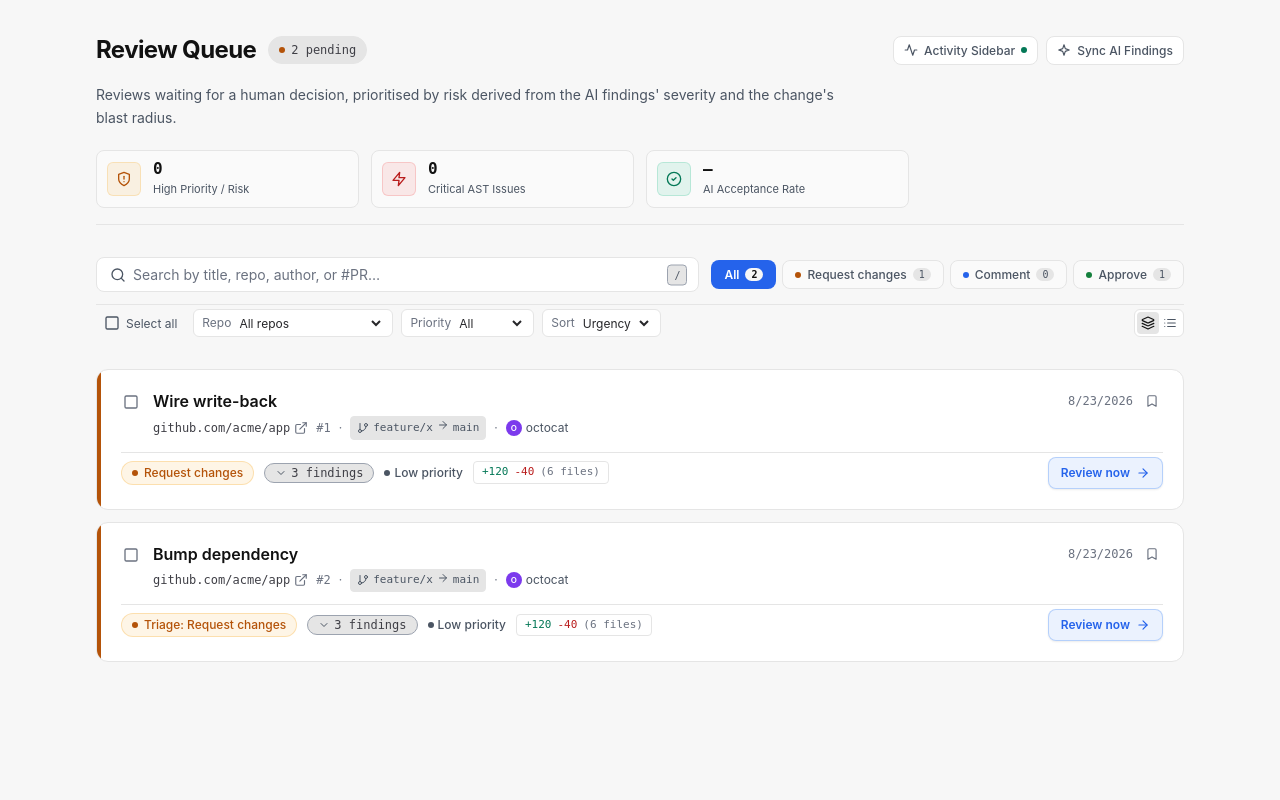
Test: QueuePage › filters by verdict and narrows by search text
The width and height of the screenshot is (1280, 800).
Expected: the link "Wire write-back" is shown, [153, 391, 277, 411]
# Verdict filter keeps only APPROVE.
Click the button "Approve 1" at coordinates (1129, 274), box [1074, 260, 1184, 289]
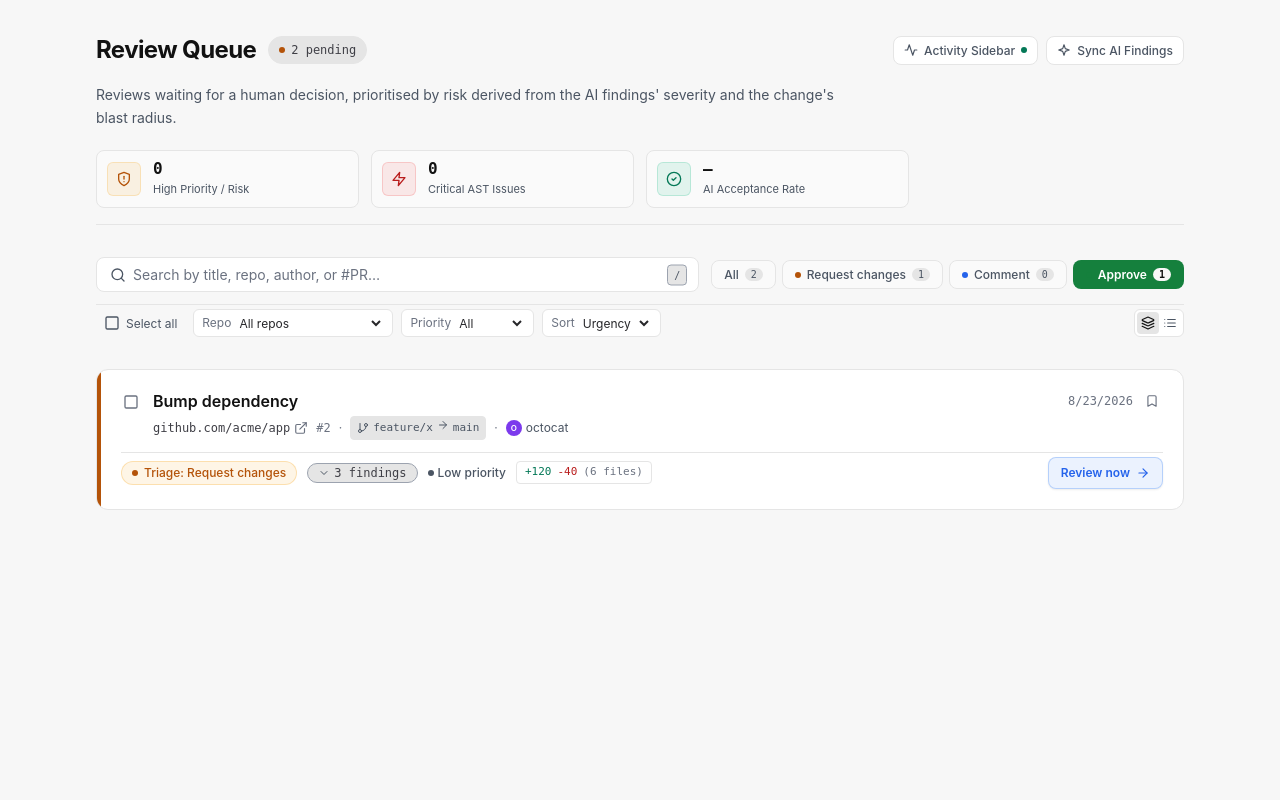
Expected: the link "Bump dependency" is shown, [153, 391, 298, 411]
Now the link "Wire write-back" is gone
# Back to All, then search narrows by title.
Click the button "All 2" at coordinates (744, 274), box [711, 260, 776, 289]
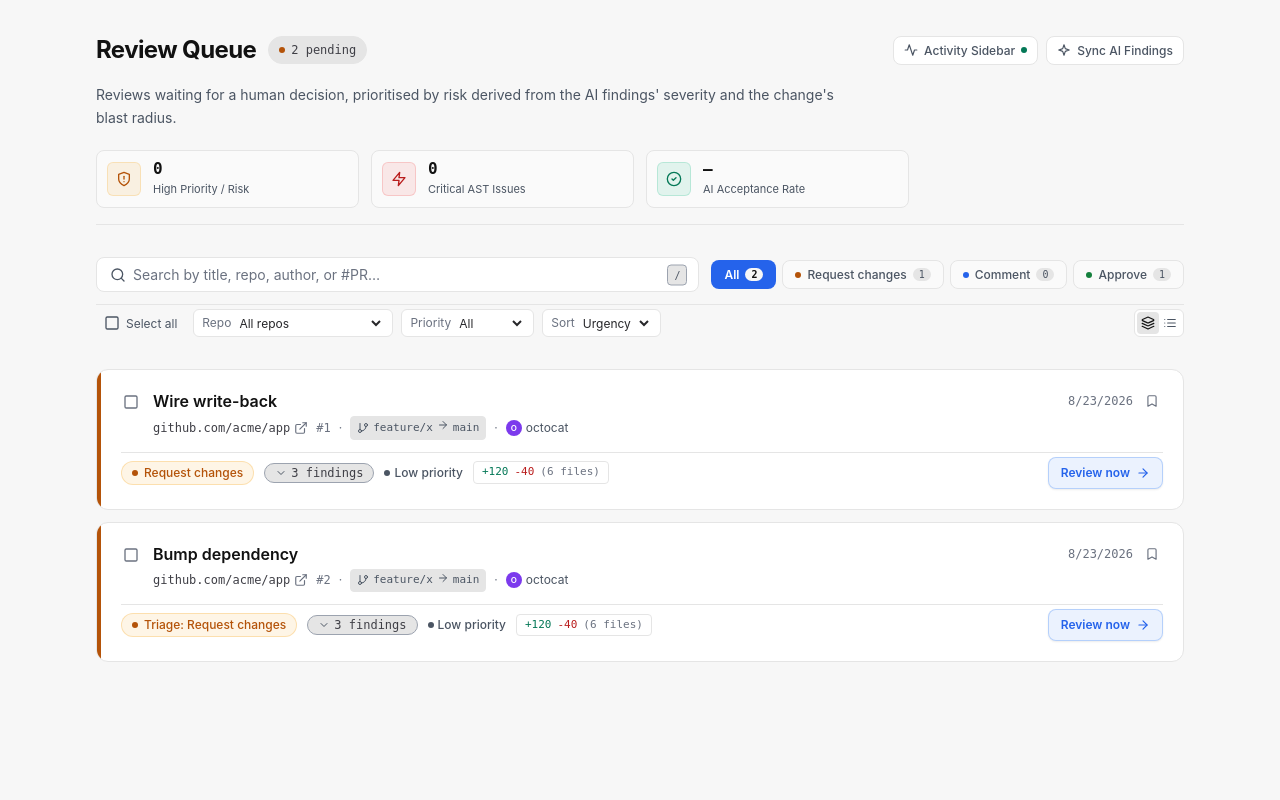
Type "write-back" into the field named "Search reviews" at coordinates (398, 274), box [96, 257, 699, 292]
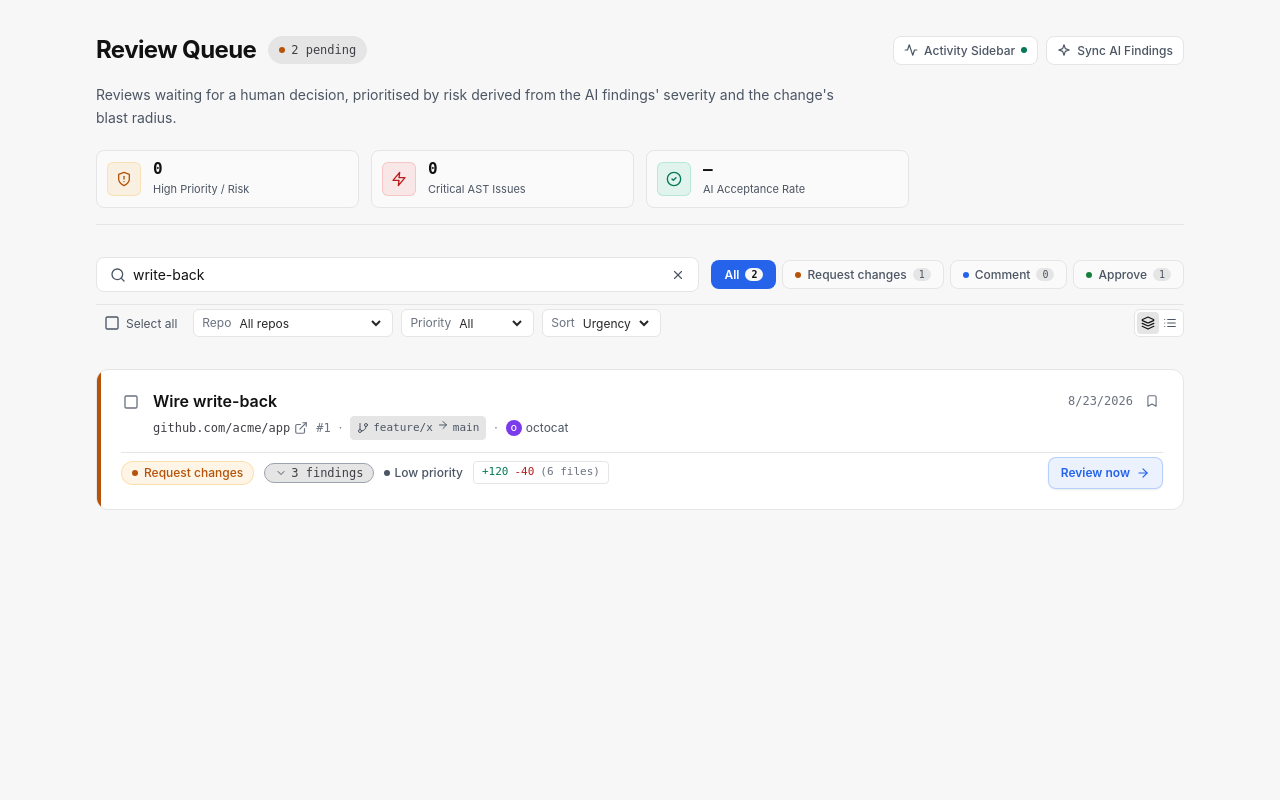
Now the link "Wire write-back" is shown, box [153, 391, 277, 411]
Now the link "Bump dependency" is gone
